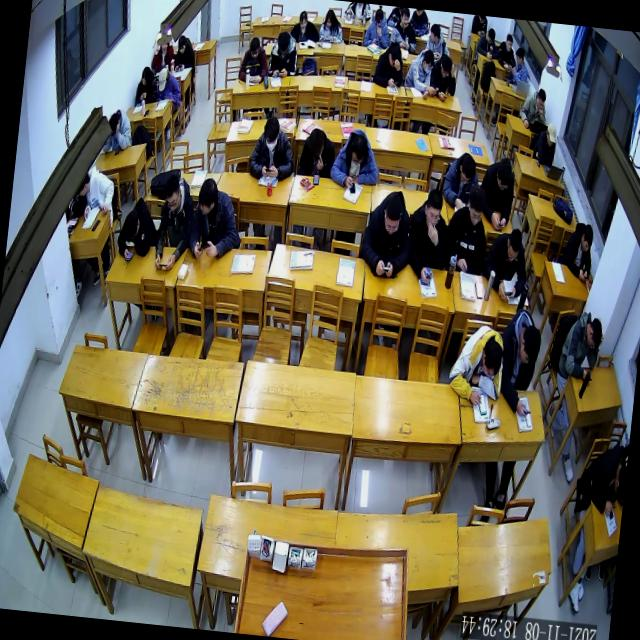bow: (495, 306, 544, 416), (446, 321, 506, 407), (358, 188, 414, 279), (328, 127, 382, 190), (115, 198, 158, 262), (495, 34, 517, 68)
down: (518, 324, 542, 366), (479, 338, 504, 376), (422, 186, 444, 228), (465, 188, 485, 226), (382, 196, 402, 234), (163, 178, 181, 212), (262, 116, 280, 150), (350, 132, 368, 166), (585, 317, 603, 350), (504, 230, 522, 263), (494, 158, 512, 191), (612, 463, 626, 504), (458, 155, 476, 185), (123, 209, 140, 239), (307, 128, 325, 156), (579, 224, 594, 254), (156, 66, 170, 92), (387, 44, 402, 68), (544, 123, 558, 146), (276, 31, 290, 53), (107, 112, 121, 133), (438, 56, 452, 77), (248, 36, 260, 58), (535, 87, 546, 109), (373, 6, 384, 26), (140, 66, 150, 86), (514, 46, 524, 66), (484, 28, 496, 44), (177, 34, 187, 52), (298, 9, 308, 27), (324, 9, 332, 28)
lookup: (399, 8, 409, 27), (504, 32, 513, 52), (160, 41, 168, 52)
sit: (187, 175, 246, 261), (404, 187, 452, 286), (442, 186, 491, 274), (574, 442, 628, 520), (152, 175, 196, 270), (482, 226, 530, 300), (556, 310, 605, 382), (246, 116, 298, 180), (478, 157, 516, 229), (442, 148, 481, 208), (76, 164, 116, 218), (296, 126, 336, 178), (562, 220, 595, 282), (403, 46, 434, 100), (372, 42, 407, 88), (268, 29, 300, 79), (237, 36, 270, 82), (102, 106, 134, 153), (428, 54, 458, 102), (388, 6, 419, 51), (518, 85, 549, 127), (362, 5, 392, 48), (532, 122, 558, 166), (154, 67, 182, 105), (290, 9, 321, 41), (424, 22, 452, 56), (505, 47, 530, 85), (318, 8, 344, 44), (134, 66, 158, 102), (174, 34, 196, 71), (476, 27, 500, 60), (152, 39, 176, 70)
